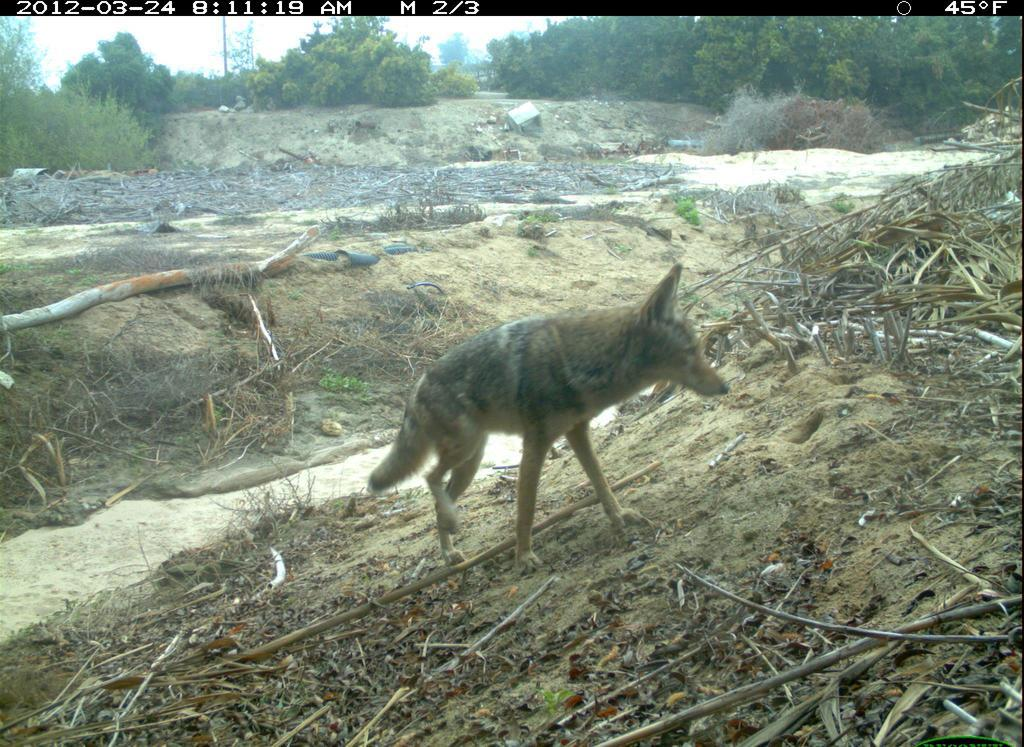coyote: (361, 260, 738, 584)
